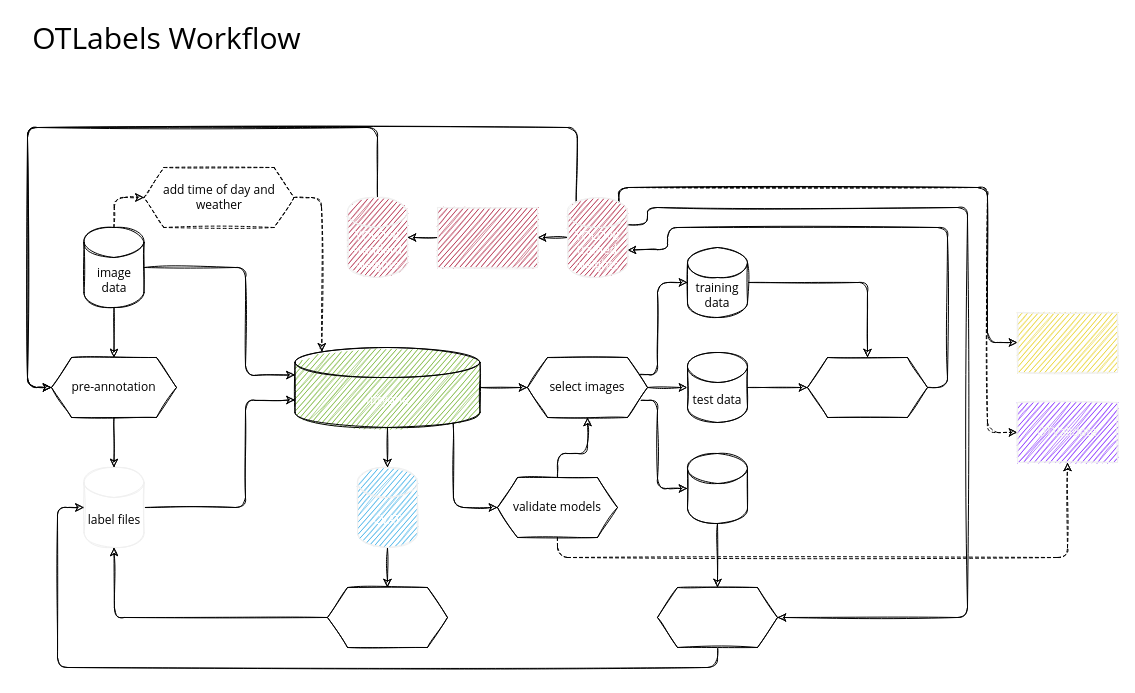
Image size: 1135x693. Some labels were removed from this diagram. Each missing label, with the box of its shape:
annotation: (326, 586, 448, 648)
detect: (656, 586, 778, 648)
OTVision: (1016, 312, 1118, 372)
training: (806, 356, 928, 418)
validation data: (686, 452, 748, 524)
YOLOv8: (436, 206, 538, 268)
